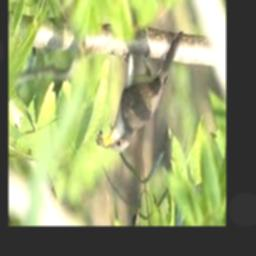Cuckoo: (98, 32, 184, 152)
